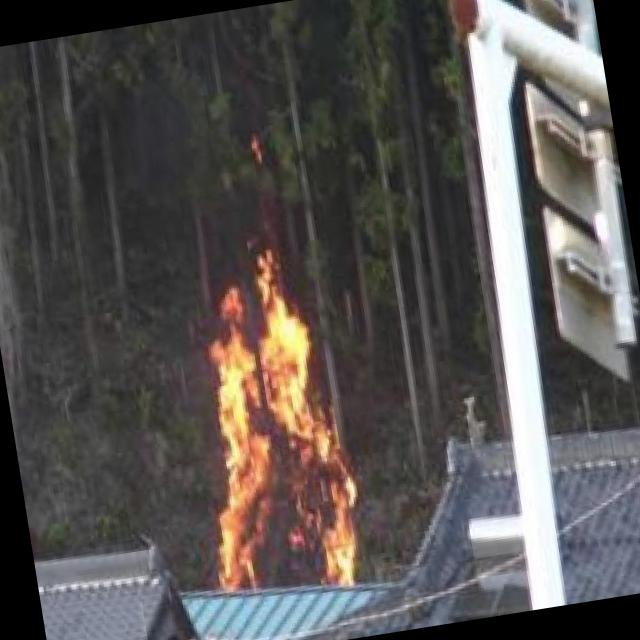Fire: (166, 226, 375, 607)
